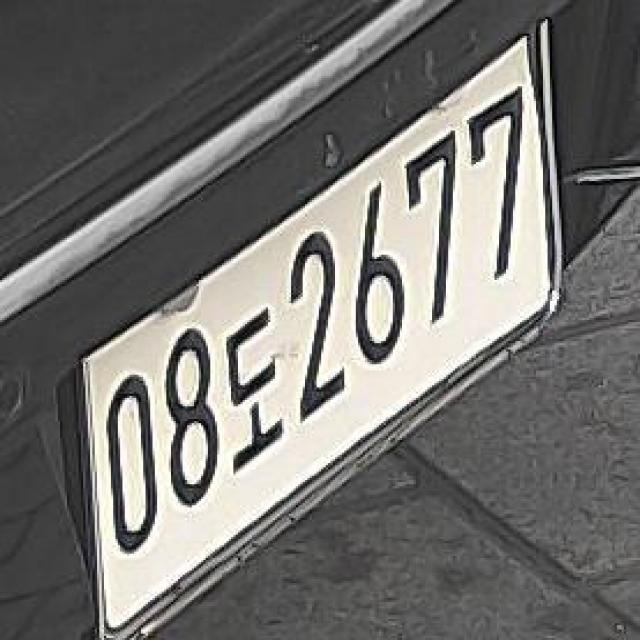illegal_plate: (70, 32, 560, 577)
